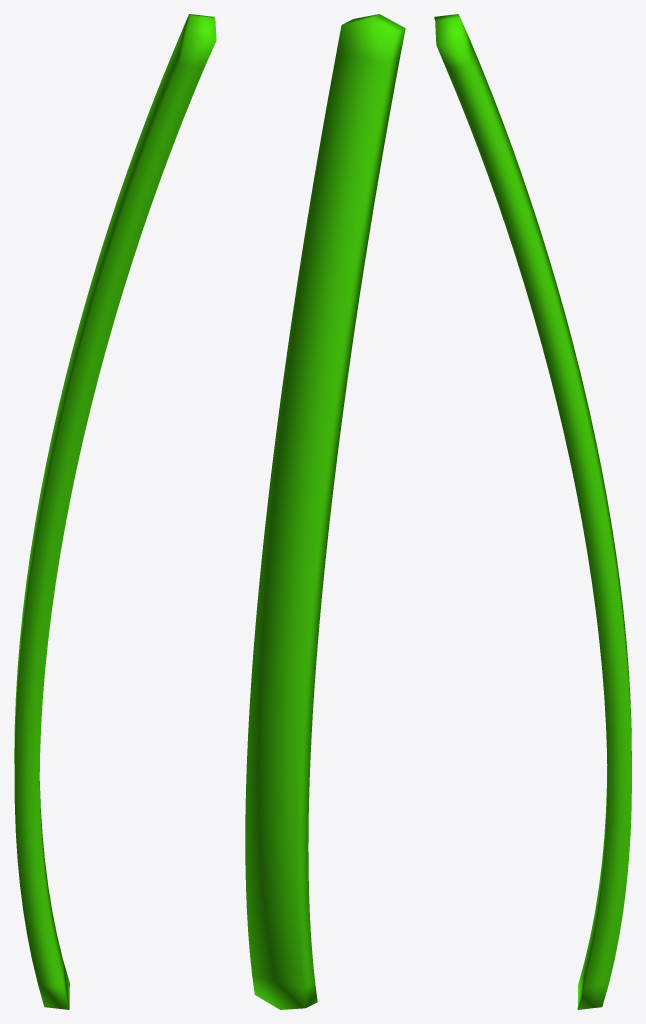
Rendered from grass.glb.
The picture shows the model from 3 angles, left to right: view 1: azimuth 90°, elevation 25°; view 2: azimuth 150°, elevation 25°; view 3: azimuth 270°, elevation 25°; orthographic projection. The views are drawn at different scales.
Parts seen in each view (by area): view 1: NurbsCurve; view 2: NurbsCurve; view 3: NurbsCurve.
Boxes of the visible parts, x1,y1,x2,y2 form: NurbsCurve: (14, 14, 216, 1009); NurbsCurve: (245, 14, 405, 1009); NurbsCurve: (434, 14, 631, 1009).
Size of the model in its own units: 0.1087 by 1.41 by 0.2585.
